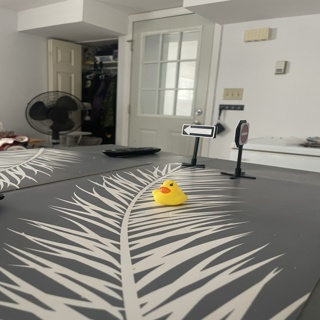duck_regular: (151, 179, 185, 207)
sign_oneway_left: (180, 125, 214, 138)
